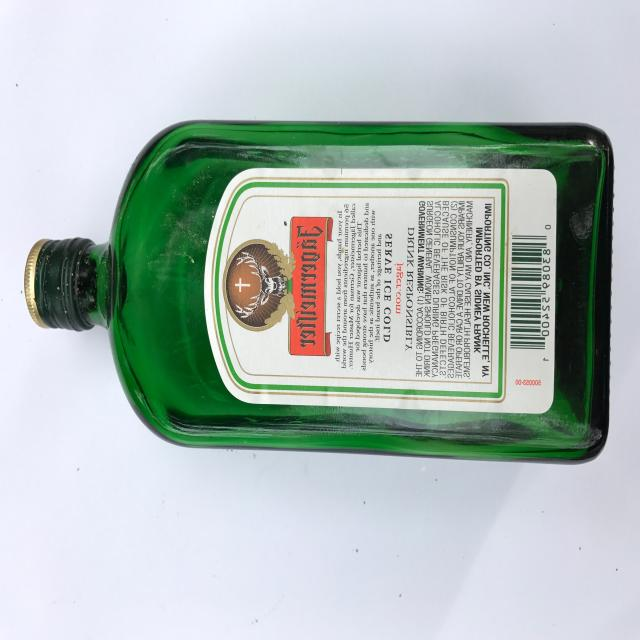glass: (24, 119, 614, 463)
